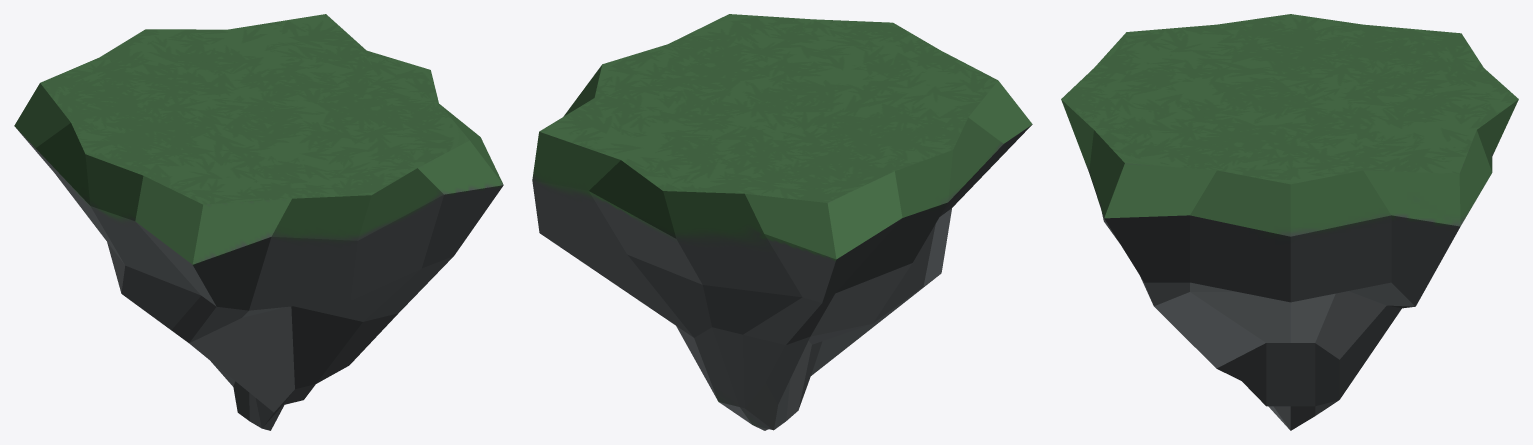
File: tinyisland.fbx
3 views of the same model, side by side, from view 1: azimuth 30°, elevation 25°; view 2: azimuth 150°, elevation 25°; view 3: azimuth 270°, elevation 25° (orthographic).
Visible parts, largest first — view 1: Cube; view 2: Cube; view 3: Cube.
Part boxes in pixels (x1,y1,x2,y2): Cube: (14, 14, 503, 430); Cube: (532, 14, 1032, 430); Cube: (1061, 14, 1518, 430).
Bounding box in the file's own units: 200 × 178 × 227.
Materials: 1 (1 with a texture image).
